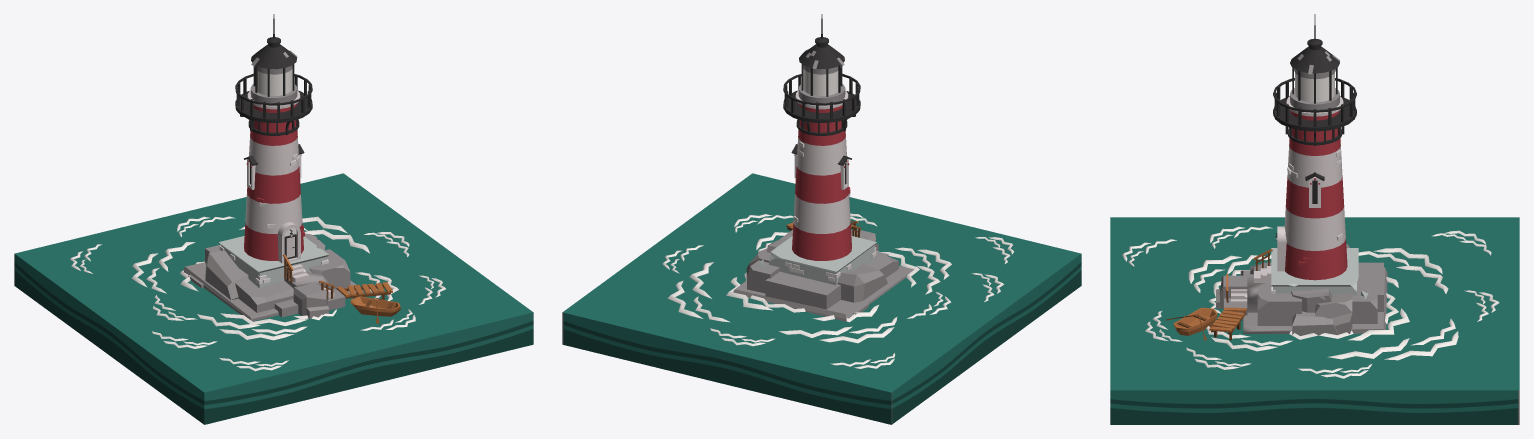
Rendered from Lighthouse.gltf.
The picture shows the model from 3 angles, left to right: view 1: azimuth 30°, elevation 25°; view 2: azimuth 150°, elevation 25°; view 3: azimuth 270°, elevation 25°; orthographic projection. The views are drawn at different scales.
Visible parts, largest first — view 1: node-0; view 2: node-0; view 3: node-0.
Boxes of the visible parts, left/top/right/bottom form: node-0: left=14, top=14, right=533, bottom=424; node-0: left=562, top=14, right=1081, bottom=424; node-0: left=1110, top=14, right=1519, bottom=424.
Bounding box in the file's own units: 24.44 × 21.37 × 24.44.
Materials: 1 (1 with a texture image).
